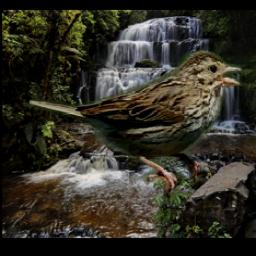Sparrow: (30, 48, 246, 202)
